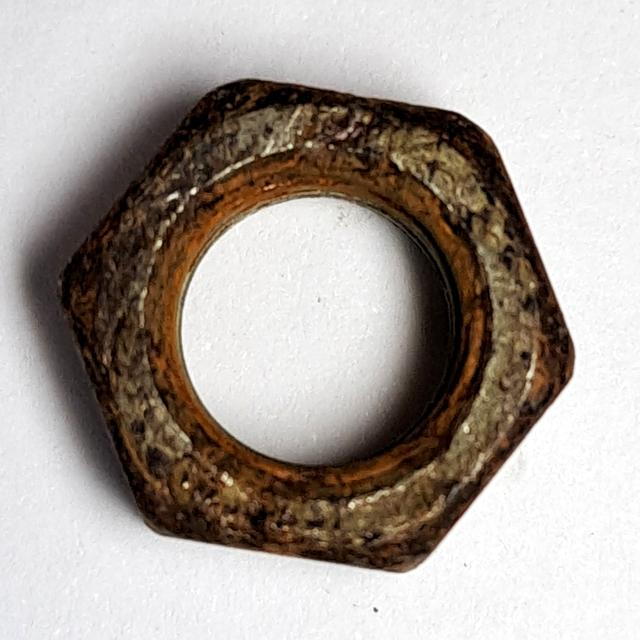Rust: (38, 64, 584, 587)
